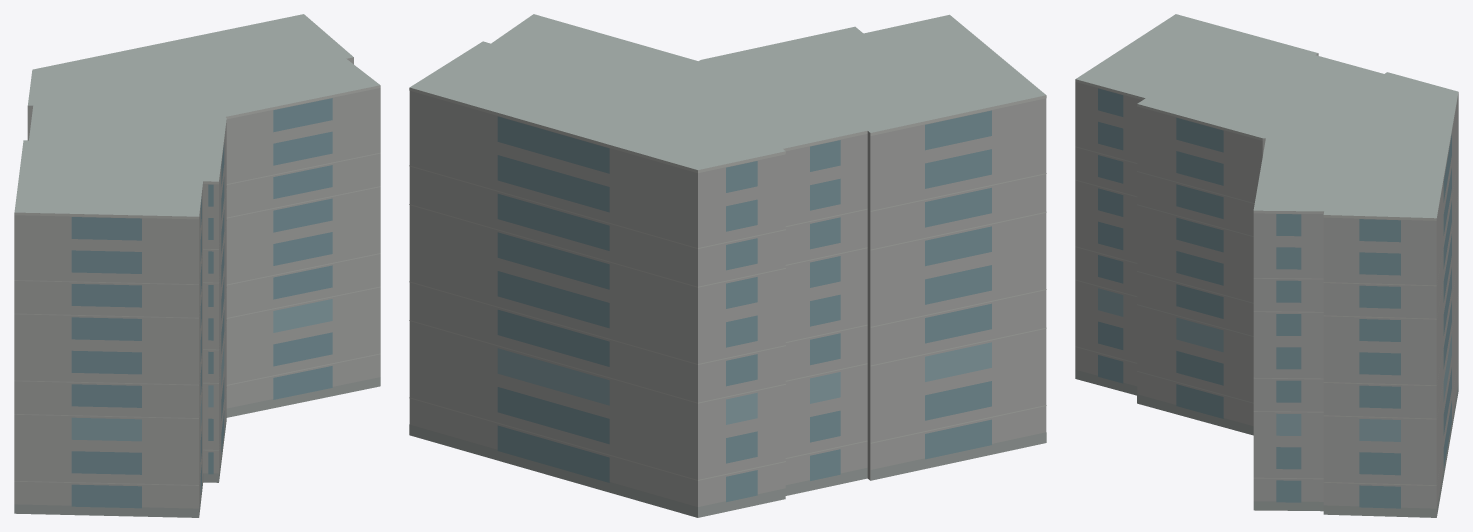
File: survey-upis-32819965.glb
The picture shows the model from 3 angles, left to right: view 1: azimuth 30°, elevation 25°; view 2: azimuth 150°, elevation 25°; view 3: azimuth 270°, elevation 25°; orthographic projection. The views are drawn at different scales.
Parts seen in each view (by area): view 1: survey-upis-32819965.tmp; view 2: survey-upis-32819965.tmp; view 3: survey-upis-32819965.tmp.
Boxes of the visible parts, left/top/right/bottom form: survey-upis-32819965.tmp: left=14, top=14, right=380, bottom=517; survey-upis-32819965.tmp: left=409, top=14, right=1046, bottom=517; survey-upis-32819965.tmp: left=1075, top=14, right=1458, bottom=517.
Size of the model in its own units: 40.14 by 27.45 by 31.83.
